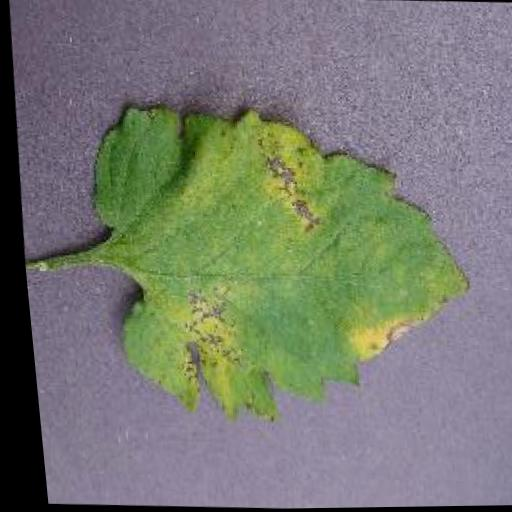Septoria: (76, 95, 486, 434)
